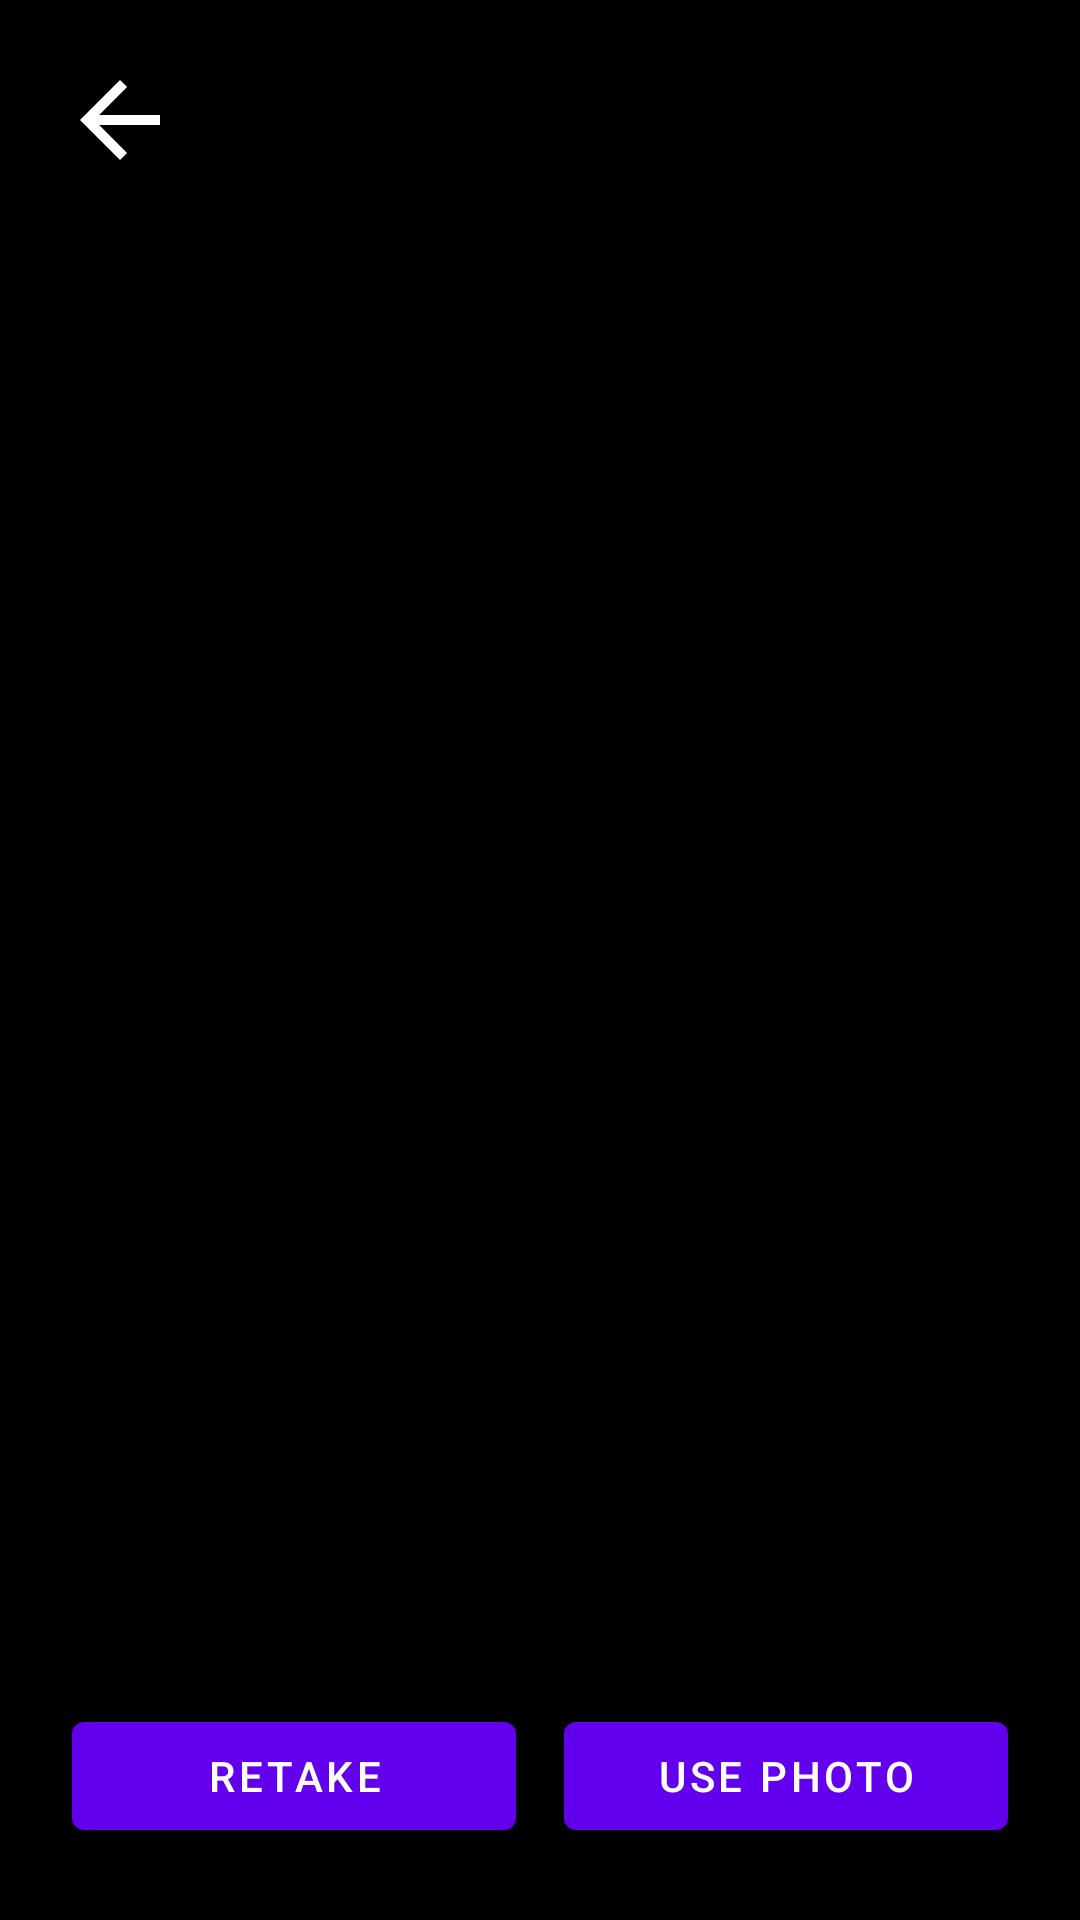

Where to tap for icons on this 1080x1920 app screen, as [x,y]:
Back: [120,120]
